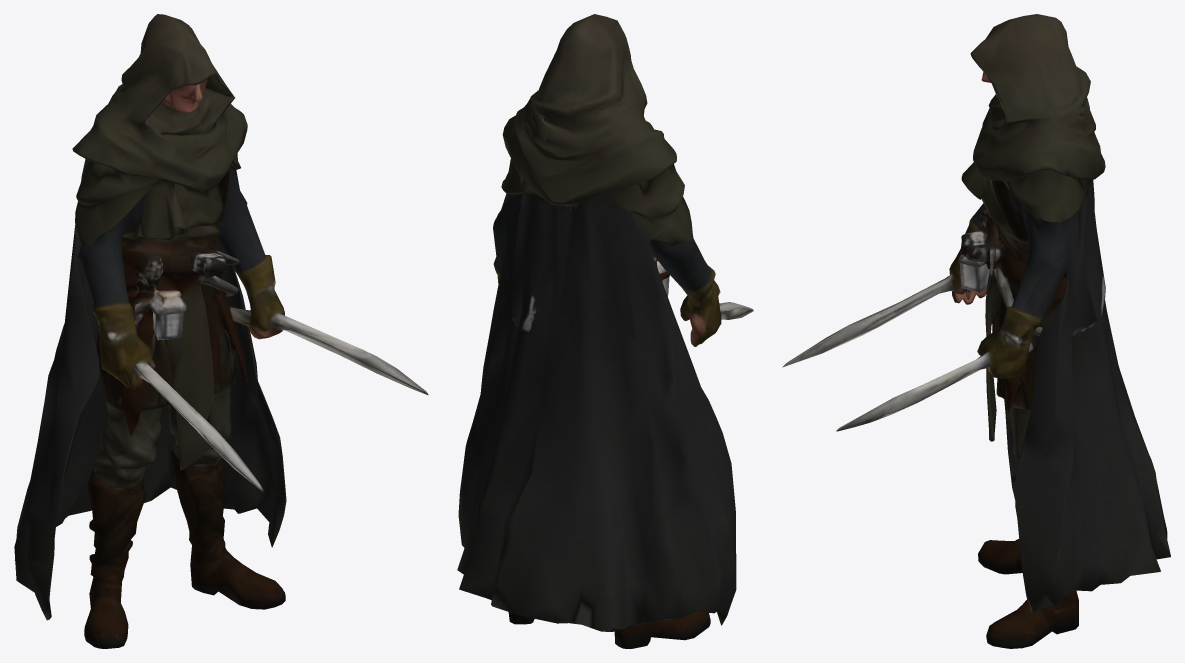
File: grey.glb
The picture shows the model from 3 angles, left to right: view 1: azimuth 30°, elevation 25°; view 2: azimuth 150°, elevation 25°; view 3: azimuth 270°, elevation 25°; orthographic projection. The views are drawn at different scales.
Parts seen in each view (by area): view 1: geometry_0; view 2: geometry_0; view 3: geometry_0.
Boxes of the visible parts, box(x1,y1,x2,y2) form: geometry_0: box(14, 14, 428, 648); geometry_0: box(457, 14, 753, 648); geometry_0: box(782, 14, 1170, 648).
Size of the model in its own units: 0.5322 by 1 by 0.5995.
Materials: 1 (1 with a texture image).
